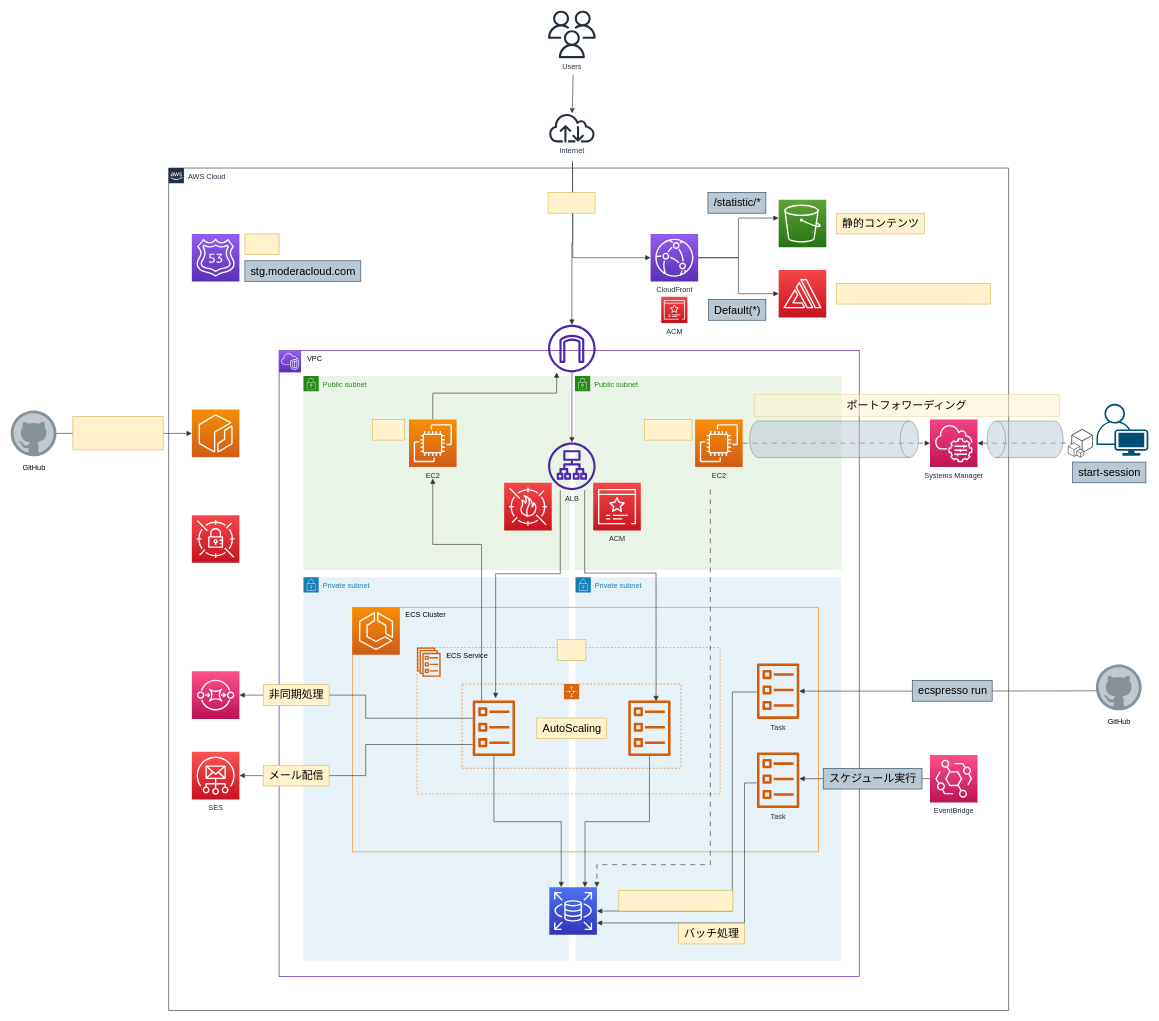
Image size: 1159x1021. Some labels were removed from this diagram. The shapes that lost their labels are listed below. From the top down, each one's centre as x and y in pixels, then its label:
At point (571, 202): "HTTPS".
At point (802, 223): "S3".
At point (215, 257): "Route 53".
At point (261, 244): "DNS".
At point (802, 293): "Amplfy".
At point (913, 293): "フロントエンドホスティング".
At point (117, 433): "Docker Imageを Push".
At point (215, 433): "ECR".
At point (388, 429): "NAT".
At point (668, 429): "Bastion".
At point (528, 506): "WAF".
At point (215, 539): "Secrets Manager".
At point (571, 649): "API".
At point (215, 695): "SQS".
At point (573, 911): "RDS".
At point (675, 900): "DBマイグレーション".
